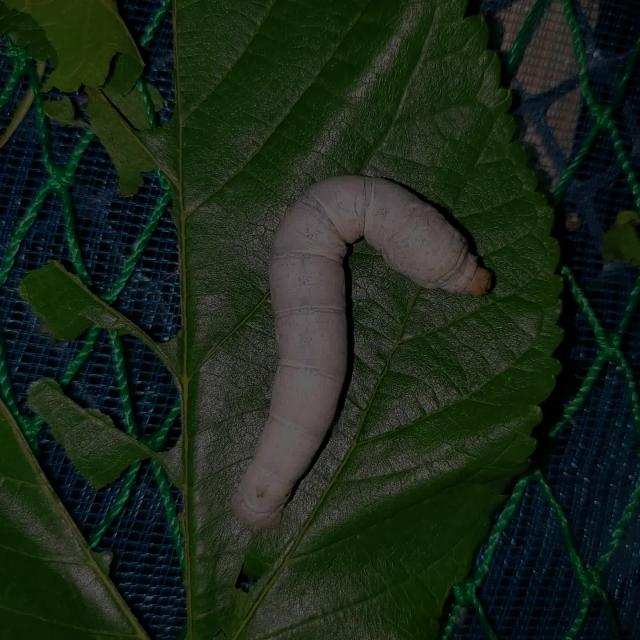Healthy: (206, 153, 514, 551)
